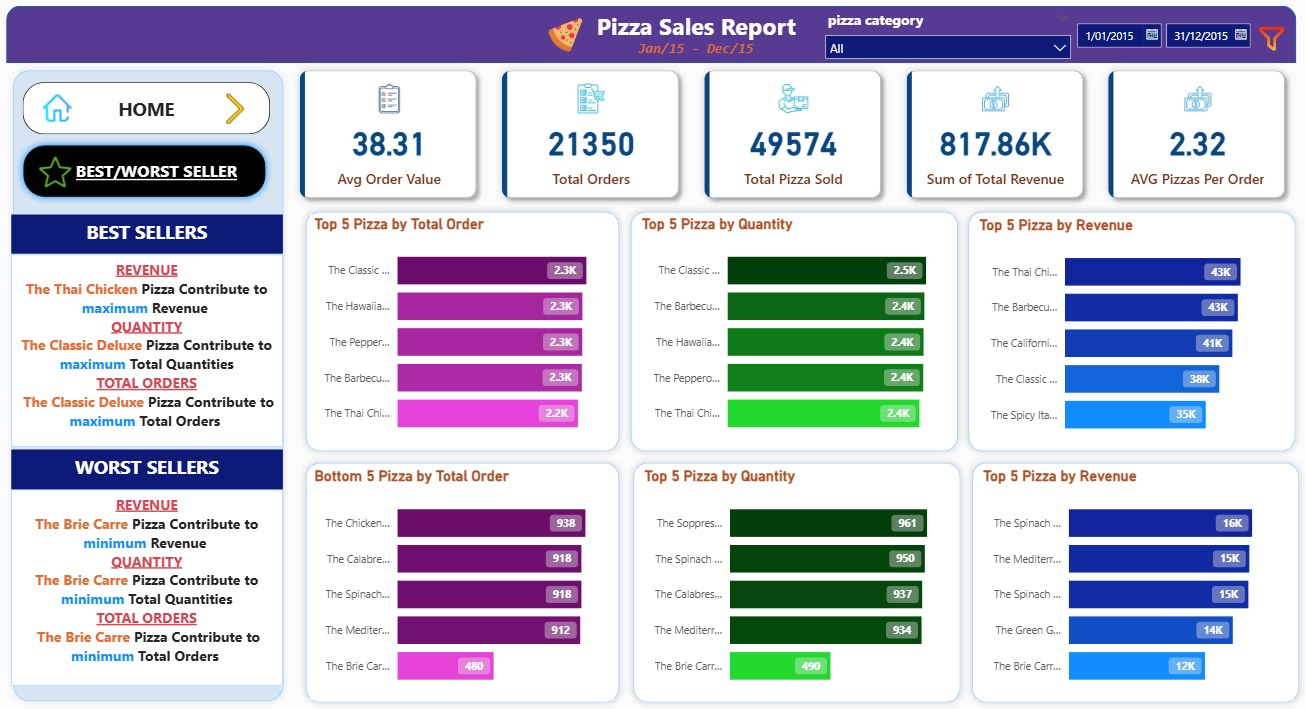

The page's visual inventory and layout, read from the dashboard file:
{"tool":"powerbi","page":{"name":"BEST/WORST SELLER","canvas":[1500,820],"ordinal":1},"visuals":[{"type":"cardVisual","fields":{"Data":["Sum(Avg_Order_Value.Avg_Order_Value)","Sum(Total_Orders.Total_Orders)","Sum(Total_Pizza_Sold.Total_Pizza_Sold)","Sum(Total_Revenue.Total Revenue)","Sum(Avg_Pizzas_Per_Order.AVG_Pizzas_Per_Order)"]},"box":[331.4,72.9,1162.9,180],"z":0},{"type":"shape","box":[12.9,15.7,1474.3,65.7],"z":1000},{"type":"textbox","box":[664.3,15.7,274.3,51.4],"z":2000},{"type":"textbox","box":[712.9,50,175.7,34.3],"z":3000},{"type":"image","box":[601.4,24.3,101.4,50],"z":4000},{"type":"shape","box":[347.1,530,374.3,290],"z":5000},{"type":"shape","box":[12.9,81.4,325,737.1],"z":6000},{"type":"textbox","box":[18.6,254.3,310,45],"z":7000},{"type":"textbox","box":[18.6,300,310,220],"z":8000},{"type":"textbox","box":[18.6,568.6,310,224.3],"z":9000},{"type":"textbox","box":[18.6,522.9,310,45.7],"z":10000},{"type":"slicer","fields":{"Values":["All_Pizza_Sales.pizza_category"]},"box":[938.2,15.6,300.9,65.3],"z":11000},{"type":"slicer","fields":{"Values":["All_Pizza_Sales.order_date"]},"box":[1224.9,25.5,222.8,48.3],"z":12000},{"type":"shape","box":[1108.6,530,390,290],"z":13000},{"type":"shape","box":[721.4,530,390,290],"z":14000},{"type":"shape","box":[718.6,242.9,390,290],"z":15000},{"type":"shape","box":[347.1,242.9,374.3,290],"z":16000},{"type":"shape","box":[1104.3,242.9,390,290],"z":17000},{"type":"clusteredBarChart","title":"Top 5 Pizza by Total Order","fields":{"Category":["vw_Top5_Pizzas_By_Orders.pizza_name"],"Y":["Sum(vw_Top5_Pizzas_By_Orders.Total_Order)"]},"box":[360,254.3,347.1,265.7],"z":18000},{"type":"clusteredBarChart","title":"Bottom 5 Pizza by Total Order","fields":{"Category":["vw_Bottom5_Pizzas_By_Orders.pizza_name"],"Y":["Sum(vw_Bottom5_Pizzas_By_Orders.Total_Order)"]},"box":[360,542.9,347.1,265.7],"z":19000},{"type":"clusteredBarChart","title":"Top 5 Pizza by Quantity","fields":{"Category":["vw_Top5_Pizzas_By_Quantity.pizza_name"],"Y":["Sum(vw_Top5_Pizzas_By_Quantity.Total_Quantity)"]},"box":[734.3,254.3,360,265.7],"z":20000},{"type":"clusteredBarChart","title":"Top 5 Pizza by Quantity","fields":{"Category":["vw_Bottom5_Pizzas_By_Quantity.pizza_name"],"Y":["Sum(vw_Bottom5_Pizzas_By_Quantity.Total_Quantity)"]},"box":[737.1,542.9,360,265.7],"z":21000},{"type":"clusteredBarChart","title":"Top 5 Pizza by Revenue","fields":{"Category":["vw_Top5_Pizzas_By_Revenue.pizza_name"],"Y":["Sum(vw_Top5_Pizzas_By_Revenue.Total_Revenue)"]},"box":[1120,255.7,360,265.7],"z":22000},{"type":"clusteredBarChart","title":"Top 5 Pizza by Revenue","fields":{"Category":["vw_Bottom5_Pizzas_By_Revenue.pizza_name"],"Y":["Sum(vw_Bottom5_Pizzas_By_Revenue.Total_Revenue)"]},"box":[1124.3,542.9,360,265.7],"z":23000},{"type":"pageNavigator","box":[31.6,103.1,283,60.5],"z":24000},{"type":"pageNavigator","box":[24.7,167.6,293,75.6],"z":25000},{"type":"image","box":[254.2,111.3,39.8,44],"z":26000},{"type":"image","box":[50,111.4,42.9,42.9],"z":27000},{"type":"image","box":[45.3,173.1,46.7,66],"z":28000},{"type":"image","box":[1435,25.5,49.7,53.9],"z":30000}]}

Visuals, with their boxes in screenshot pixels (x1, y1, x2, y2), scaled from the page's 1500x820 canvas onto the 1306x709 screenshot:
cardVisual - Sum(Avg_Order_Value.Avg_Order_Value) x Sum(Total_Orders.Total_Orders): crop(289, 63, 1301, 219)
shape: crop(11, 14, 1295, 70)
textbox: crop(578, 14, 817, 58)
textbox: crop(621, 43, 774, 73)
image: crop(524, 21, 612, 64)
shape: crop(302, 458, 628, 708)
shape: crop(11, 70, 294, 708)
textbox: crop(16, 220, 286, 259)
textbox: crop(16, 259, 286, 450)
textbox: crop(16, 492, 286, 686)
textbox: crop(16, 452, 286, 492)
slicer - All_Pizza_Sales.pizza_category: crop(817, 13, 1079, 70)
slicer - All_Pizza_Sales.order_date: crop(1066, 22, 1260, 64)
shape: crop(965, 458, 1305, 708)
shape: crop(628, 458, 968, 708)
shape: crop(626, 210, 965, 461)
shape: crop(302, 210, 628, 461)
shape: crop(961, 210, 1301, 461)
"Top 5 Pizza by Total Order" clusteredBarChart: crop(313, 220, 616, 450)
"Bottom 5 Pizza by Total Order" clusteredBarChart: crop(313, 469, 616, 699)
"Top 5 Pizza by Quantity" clusteredBarChart: crop(639, 220, 953, 450)
"Top 5 Pizza by Quantity" clusteredBarChart: crop(642, 469, 955, 699)
"Top 5 Pizza by Revenue" clusteredBarChart: crop(975, 221, 1289, 451)
"Top 5 Pizza by Revenue" clusteredBarChart: crop(979, 469, 1292, 699)
pageNavigator: crop(28, 89, 274, 141)
pageNavigator: crop(22, 145, 277, 210)
image: crop(221, 96, 256, 134)
image: crop(44, 96, 81, 133)
image: crop(39, 150, 80, 207)
image: crop(1249, 22, 1293, 69)
